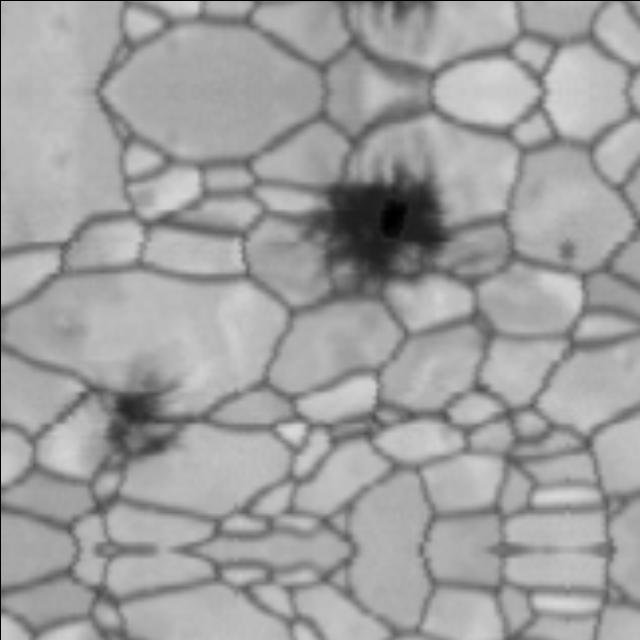good_void: (290, 158, 454, 315), (91, 357, 192, 468), (549, 239, 586, 262)
